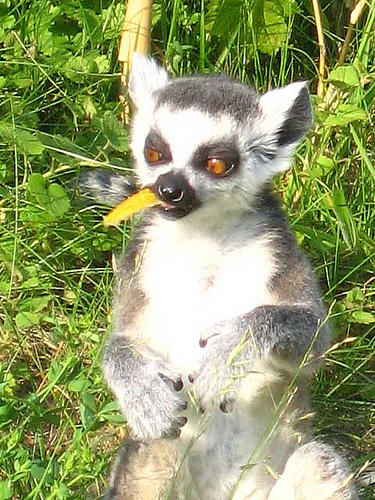cat: (93, 48, 361, 495)
